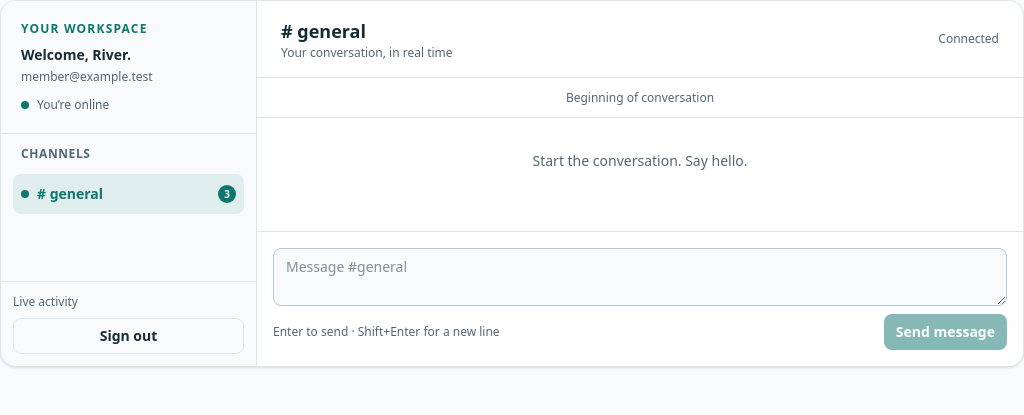
Test: chat screen › surfaces a failed send and retries with the same client message id
Expected: the heading "Welcome, River." is shown, [21, 45, 131, 64]
Expected: the button "# general 3" is shown, [13, 174, 244, 214]
Step 1. Type "Try me" into the text box labelled "Message #general" → (640, 277), box [273, 248, 1007, 306]
Then press Enter
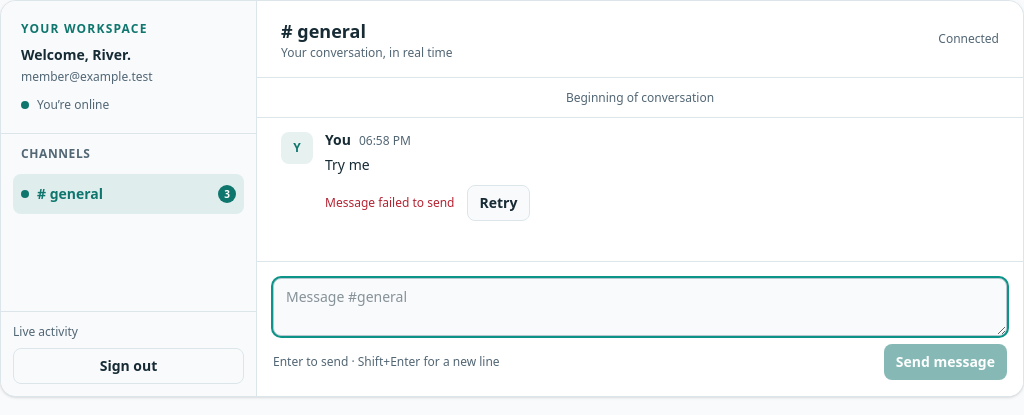
Expected: the text "Message failed to send" is shown, [325, 195, 454, 211]
Step 2. Click the button named "Retry message: Try me" → (498, 203), box [466, 185, 530, 221]
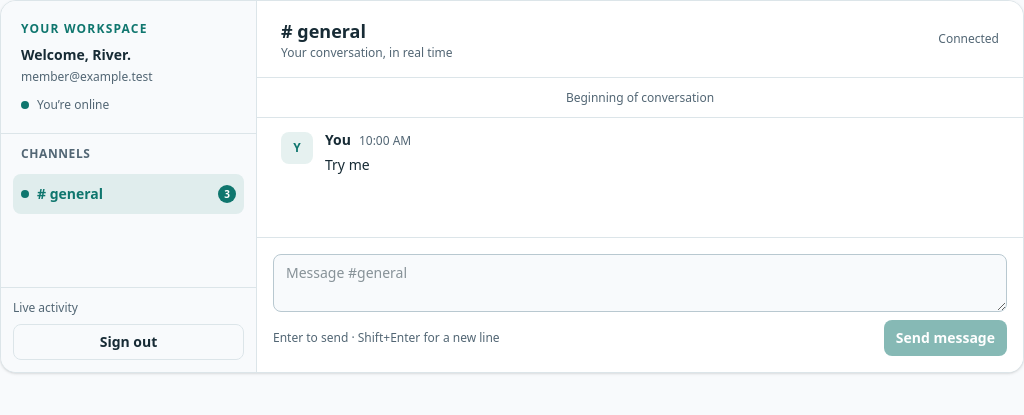
Expected: the text "Try me" is shown once, [325, 155, 370, 174]
Expected: the text "Message failed to send" is gone
